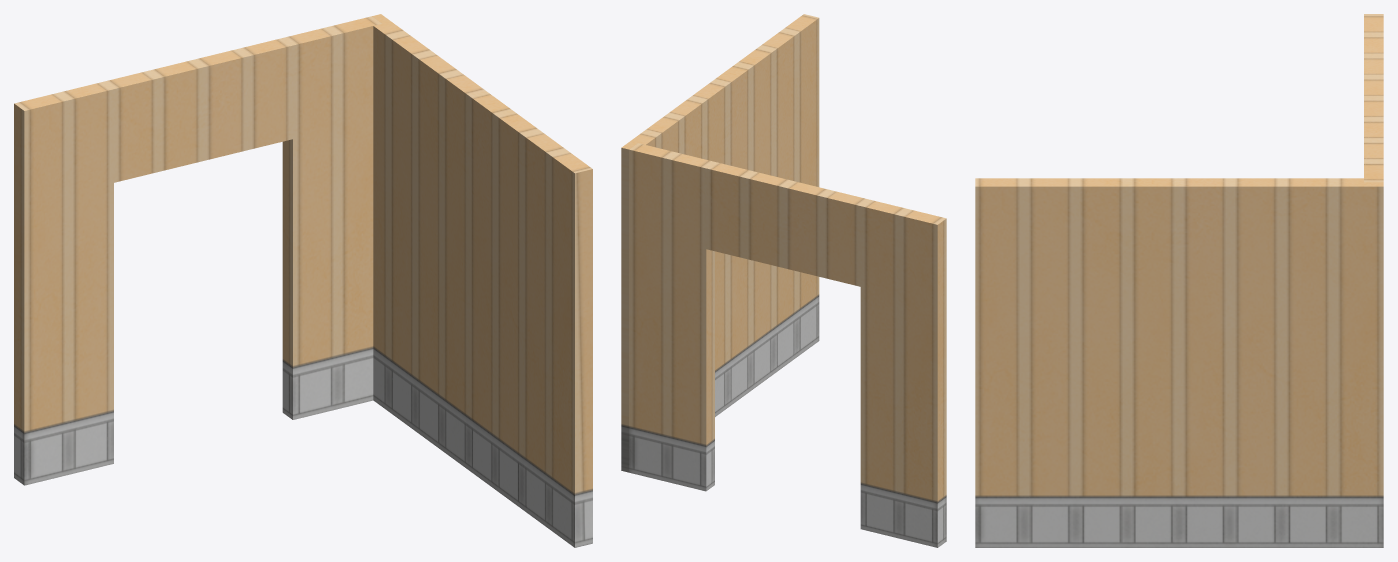
Rendered from Wall_8_Corner_B.fbx.
3 renders of one model, left to right at view 1: azimuth 30°, elevation 25°; view 2: azimuth 150°, elevation 25°; view 3: azimuth 270°, elevation 25°, orthographic. The views are drawn at different scales.
Visible parts, largest first — view 1: polySurface59; view 2: polySurface59; view 3: polySurface59.
Boxes of the visible parts, x1=… form: polySurface59: x1=14, y1=14, x2=592, y2=547; polySurface59: x1=621, y1=14, x2=946, y2=547; polySurface59: x1=975, y1=14, x2=1383, y2=547.
Bounding box in the file's own units: 4.1 × 4 × 4.1.
